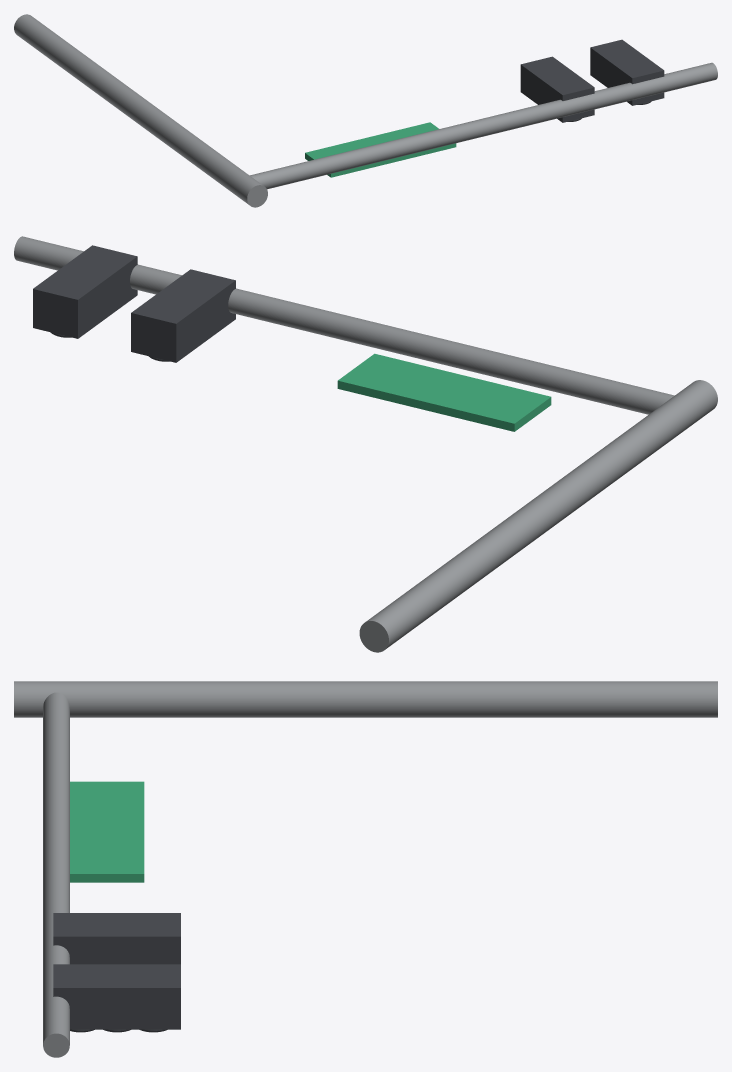
File: SM_Yilan_TrafficSignal_Mast_HQ.glb
3 views of the same model, one above another, from view 1: azimuth 30°, elevation 25°; view 2: azimuth 150°, elevation 25°; view 3: azimuth 270°, elevation 25° (orthographic). The views are drawn at different scales.
Parts seen in each view (by area): view 1: arm, mast, signal_body_4.8, signal_body_5.8, road_sign; view 2: mast, arm, road_sign, signal_body_4.8, signal_body_5.8; view 3: mast, arm, signal_body_5.8, road_sign, signal_body_4.8.
Part boxes in pixels (<box>): arm: <box>250,62,717,189</box>; mast: <box>14,14,267,207</box>; signal_body_4.8: <box>520,56,594,122</box>; signal_body_5.8: <box>590,39,664,105</box>; road_sign: <box>305,122,456,177</box>; mast: <box>359,380,717,652</box>; arm: <box>14,236,674,414</box>; road_sign: <box>337,353,551,431</box>; signal_body_4.8: <box>131,269,235,362</box>; signal_body_5.8: <box>33,245,137,338</box>; mast: <box>14,681,717,717</box>; arm: <box>43,692,69,1057</box>; signal_body_5.8: <box>53,964,180,1029</box>; road_sign: <box>70,781,144,882</box>; signal_body_4.8: <box>53,913,180,964</box>.
Size of the model in its own units: 6.9 by 0.44 by 5.8.
